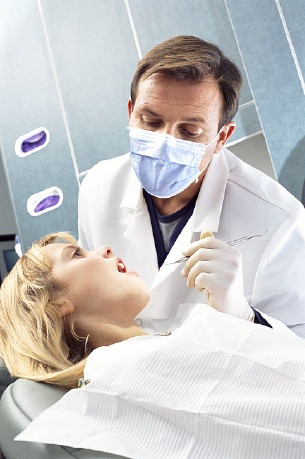Mask: (123, 93, 229, 199)
